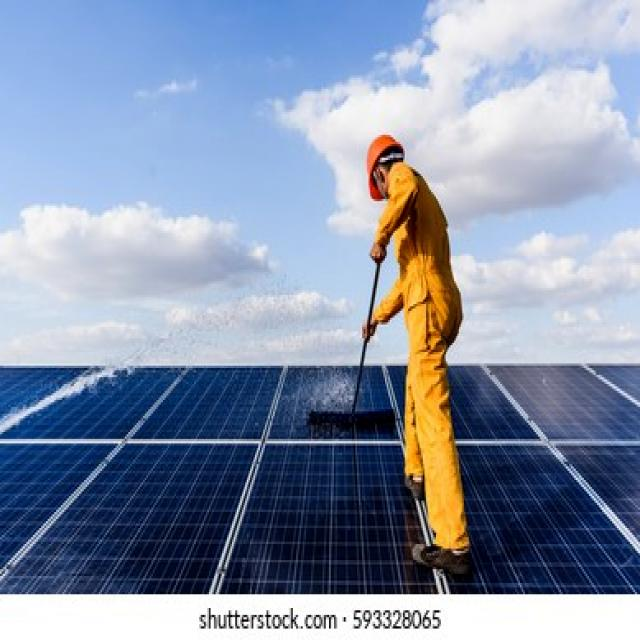crack: (11, 428, 282, 618), (251, 436, 444, 615), (148, 363, 290, 470)
